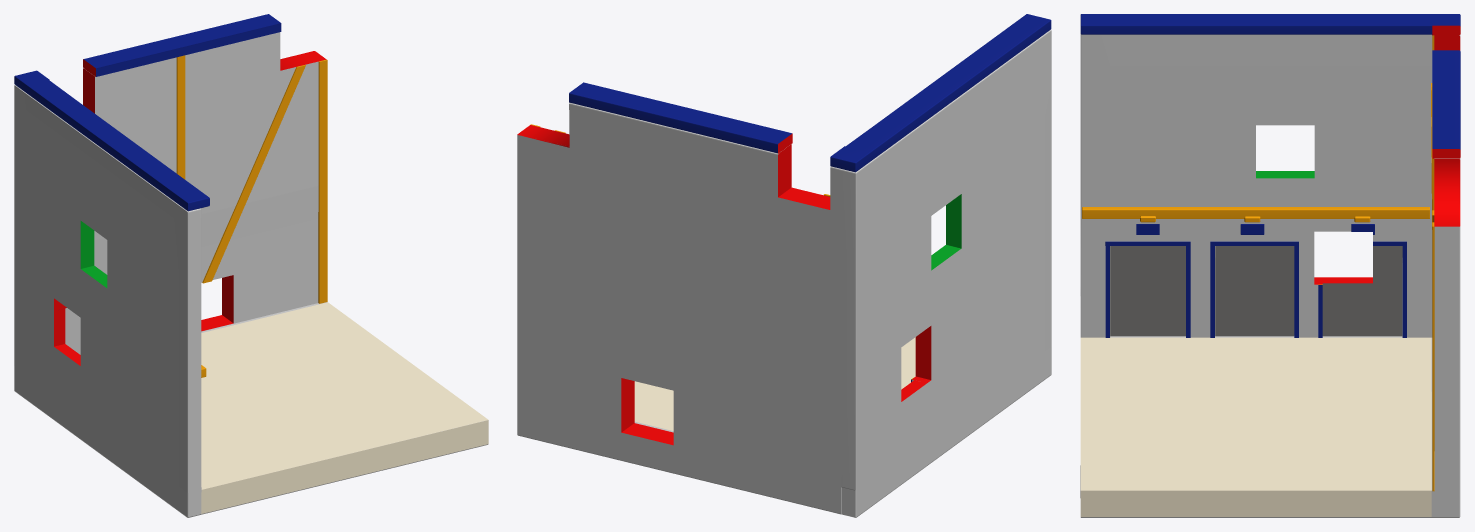
Rendered from cube_sta9.fbx.
3 views of the same model, side by side, from view 1: azimuth 30°, elevation 25°; view 2: azimuth 150°, elevation 25°; view 3: azimuth 270°, elevation 25° (orthographic). The views are drawn at different scales.
Parts seen in each view (by area): view 1: polySurface76; view 2: polySurface76; view 3: polySurface76.
Boxes of the visible parts, bbox=[...] form: polySurface76: bbox=[14, 14, 488, 517]; polySurface76: bbox=[517, 14, 1051, 517]; polySurface76: bbox=[1080, 14, 1460, 517].
Bounding box in the file's own units: 6.49 × 6.5 × 6.5.
Materials: 8 (1 with a texture image).
